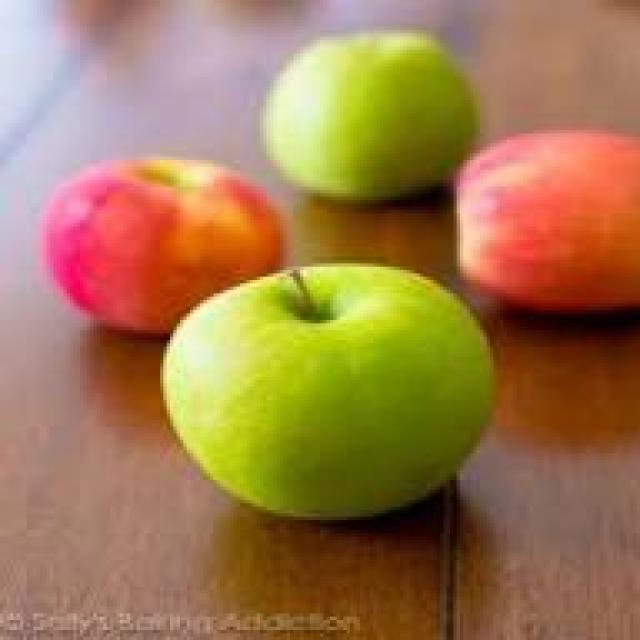apple: (160, 280, 510, 533), (253, 33, 517, 180), (57, 164, 270, 334), (443, 136, 640, 286)
